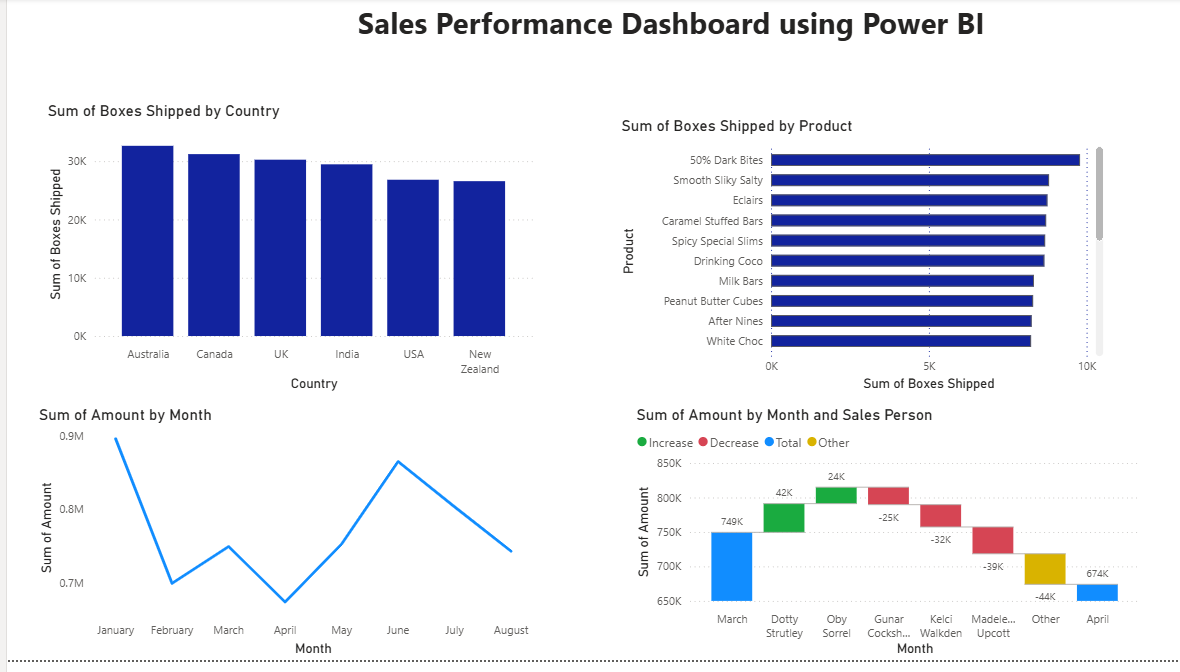

The dashboard page shown, as its layout file describes it:
{"tool":"powerbi","page":{"name":"Page 1","canvas":[1280,720],"ordinal":0},"visuals":[{"type":"columnChart","fields":{"Category":["data.Country"],"Y":["Sum(data.Boxes Shipped)"]},"box":[39.8,112.5,537.9,319.7],"z":0},{"type":"barChart","fields":{"Category":["data.Product"],"Y":["Sum(data.Boxes Shipped)"]},"box":[662.8,129,533.8,303.3],"z":1000},{"type":"lineChart","fields":{"Category":["data.Date.Variation.Date Hierarchy.Year","data.Date.Variation.Date Hierarchy.Quarter","data.Date.Variation.Date Hierarchy.Month","data.Date.Variation.Date Hierarchy.Day"],"Y":["Sum(data.Amount)"]},"box":[30,443,548,277],"z":2000},{"type":"waterfallChart","fields":{"Category":["data.Date.Variation.Date Hierarchy.Month"],"Breakdown":["data.Sales Person"],"Y":["Sum(data.Amount)"]},"box":[679.2,443.2,557.1,277.2],"z":3000},{"type":"textbox","box":[376,0,728.6,123.5],"z":4000}]}

Visuals, with their boxes in screenshot pixels (x1, y1, x2, y2), scaled from the page's 1280x720 canvas onto the 1180x672 screenshot:
columnChart - data.Country x Sum(data.Boxes Shipped): left=37, top=105, right=533, bottom=403
barChart - data.Product x Sum(data.Boxes Shipped): left=611, top=120, right=1103, bottom=403
lineChart - data.Date.Variation.Date Hierarchy.Year x data.Date.Variation.Date Hierarchy.Quarter: left=28, top=413, right=533, bottom=671
waterfallChart - data.Date.Variation.Date Hierarchy.Month x data.Sales Person: left=626, top=414, right=1140, bottom=671
textbox: left=347, top=0, right=1018, bottom=115
